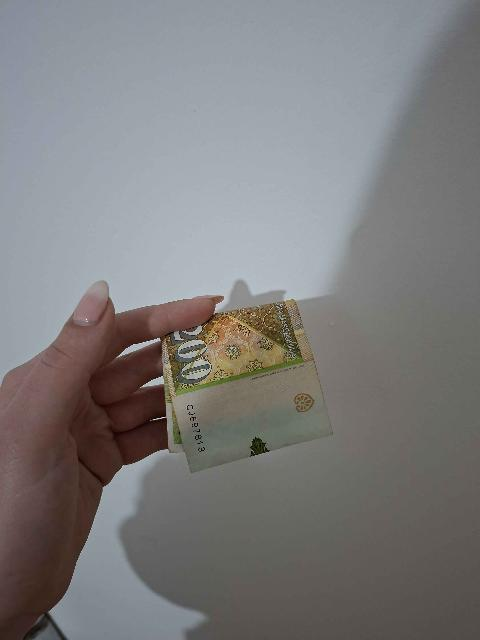200_note: (163, 301, 331, 471)
